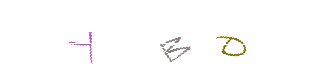8: (124, 0, 204, 80)
B: (146, 0, 226, 80)
D: (192, 0, 272, 80)
Y: (85, 0, 165, 80)
